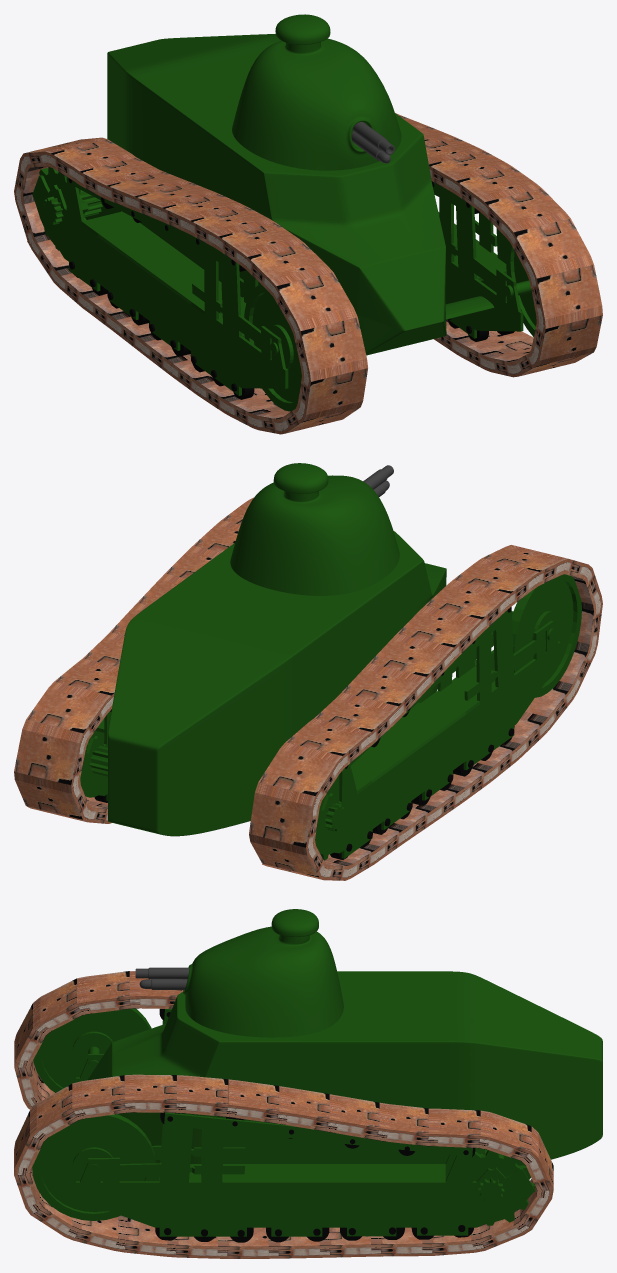
Rendered from Ft Renault.fbx.
The picture shows the model from 3 angles, top to bottom: view 1: azimuth 30°, elevation 25°; view 2: azimuth 150°, elevation 25°; view 3: azimuth 270°, elevation 25°; orthographic projection. The views are drawn at different scales.
Visible parts, largest first — view 1: Body.000, Right Track.000, Left Holder.001, Left Track.000, Turret.000, Left Holder.000, Front Wheel.002, Back Gear Wheel.002, Front Wheel.000, Plane.001, Main Gun.000; view 2: Body.000, Right Track.000, Left Holder.001, Turret.000, Left Track.000, Front Wheel.002, Left Holder.000, Back Gear Wheel.002; view 3: Body.000, Left Track.000, Left Holder.000, Turret.000, Front Wheel.000, Right Track.000, Front Wheel.002, Back Gear Wheel.000, Main Gun.000, Under Gun.000.
Boxes of the visible parts, bbox=[...] form: Body.000: bbox=[107, 34, 446, 355]; Right Track.000: bbox=[14, 137, 367, 434]; Left Holder.001: bbox=[32, 175, 288, 395]; Left Track.000: bbox=[395, 113, 602, 377]; Turret.000: bbox=[232, 14, 401, 170]; Left Holder.000: bbox=[433, 182, 523, 338]; Front Wheel.002: bbox=[244, 284, 301, 411]; Back Gear Wheel.002: bbox=[39, 167, 102, 250]; Front Wheel.000: bbox=[504, 240, 536, 336]; Plane.001: bbox=[445, 296, 494, 319]; Main Gun.000: bbox=[352, 122, 394, 154]; Body.000: bbox=[108, 531, 446, 836]; Right Track.000: bbox=[249, 545, 602, 880]; Left Holder.001: bbox=[315, 607, 560, 858]; Turret.000: bbox=[230, 463, 399, 595]; Left Track.000: bbox=[14, 497, 253, 823]; Front Wheel.002: bbox=[512, 574, 581, 697]; Left Holder.000: bbox=[80, 711, 111, 800]; Back Gear Wheel.002: bbox=[252, 775, 344, 860]; Body.000: bbox=[87, 971, 602, 1163]; Left Track.000: bbox=[14, 1074, 553, 1258]; Left Holder.000: bbox=[76, 1112, 534, 1236]; Turret.000: bbox=[183, 909, 343, 1037]; Front Wheel.000: bbox=[32, 1114, 155, 1220]; Right Track.000: bbox=[14, 971, 183, 1109]; Front Wheel.002: bbox=[33, 1008, 151, 1092]; Back Gear Wheel.000: bbox=[472, 1149, 535, 1225]; Main Gun.000: bbox=[135, 967, 189, 979]; Under Gun.000: bbox=[139, 979, 187, 989].
Bounding box in the file's own units: 310 × 313 × 597.
